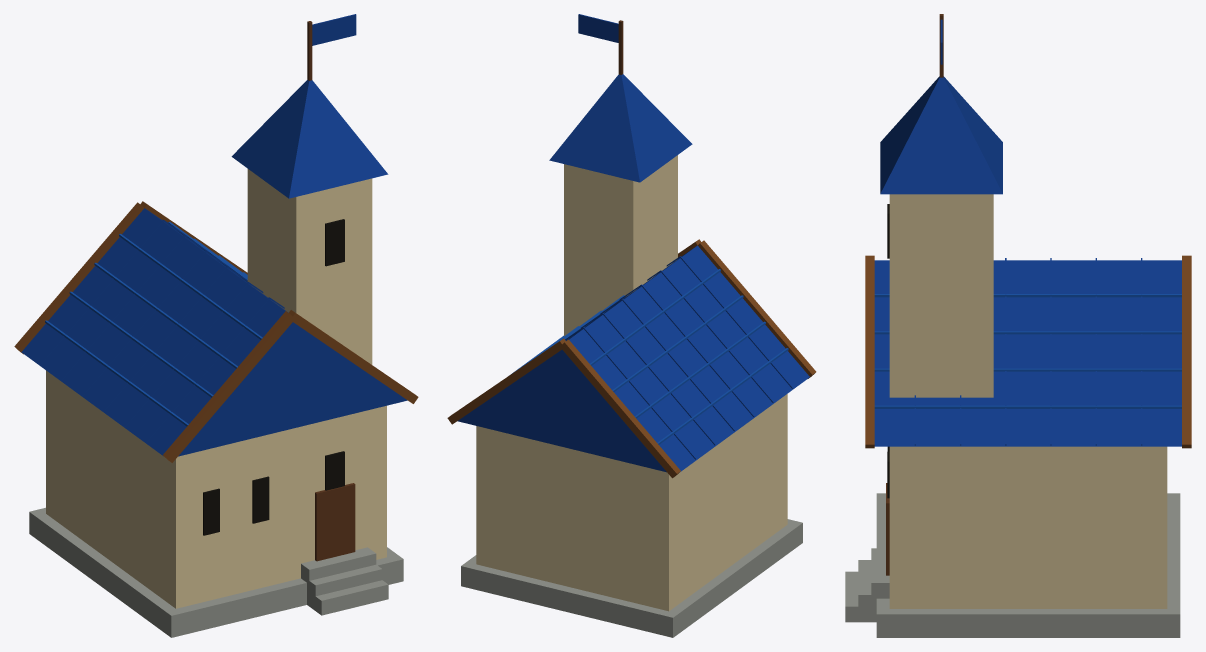
File: townhall.glb
3 views of the same model, side by side, from view 1: azimuth 30°, elevation 25°; view 2: azimuth 150°, elevation 25°; view 3: azimuth 270°, elevation 25° (orthographic). The views are drawn at different scales.
Visible parts, largest first — view 1: Tower, Tile seam.001, Steps.001, Bargeboard.003, Entry, Tower window.001, Tile course.010; view 2: Tower, Tile seam.001, Steps.001, Bargeboard.003, Tile course.010; view 3: Tower, Tile seam.001, Steps.001, Bargeboard.003, Tile course.010, Entry.
Part boxes in pixels (x1=…): Tower: x1=46, y1=169, x2=386, y2=608; Tile seam.001: x1=21, y1=14, x2=407, y2=456; Steps.001: x1=29, y1=507, x2=403, y2=637; Bargeboard.003: x1=14, y1=201, x2=418, y2=462; Entry: x1=307, y1=21, x2=355, y2=561; Tower window.001: x1=203, y1=219, x2=344, y2=535; Tile course.010: x1=45, y1=222, x2=262, y2=426; Tower: x1=476, y1=155, x2=787, y2=611; Tile seam.001: x1=457, y1=14, x2=809, y2=472; Steps.001: x1=461, y1=519, x2=802, y2=637; Bargeboard.003: x1=447, y1=239, x2=816, y2=478; Tile course.010: x1=512, y1=269, x2=788, y2=444; Tower: x1=889, y1=194, x2=1167, y2=608; Tile seam.001: x1=874, y1=19, x2=1181, y2=446; Steps.001: x1=845, y1=493, x2=1180, y2=637; Bargeboard.003: x1=865, y1=255, x2=1191, y2=448; Tile course.010: x1=874, y1=294, x2=1181, y2=408; Entry: x1=886, y1=14, x2=943, y2=575.
Size of the model in its own units: 3.57 by 7.5 by 3.99.
